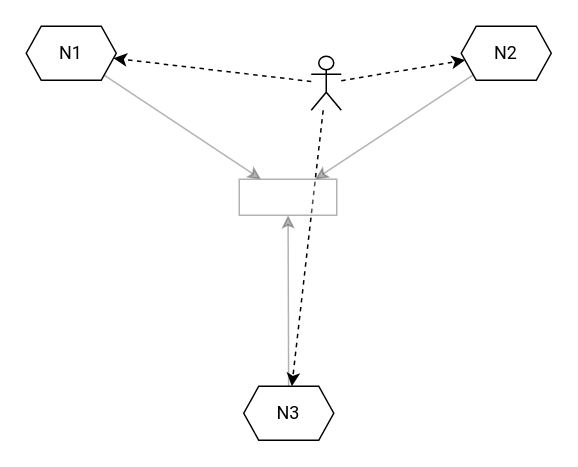
The diagram is 578 pixels wide and 467 high, and some of its shapes have lost their labels. Here are the shapes that lost their labels. From the top down, the centre of each, then its label:
At point 325,82: "User with Smartwatch".
At point 287,196: "GPC".
